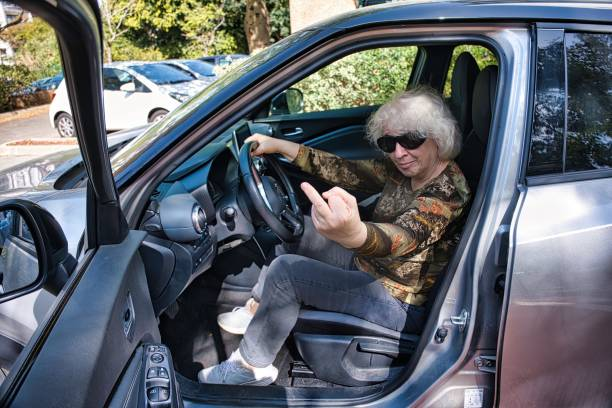insulting_gesture: (302, 184, 365, 246)
